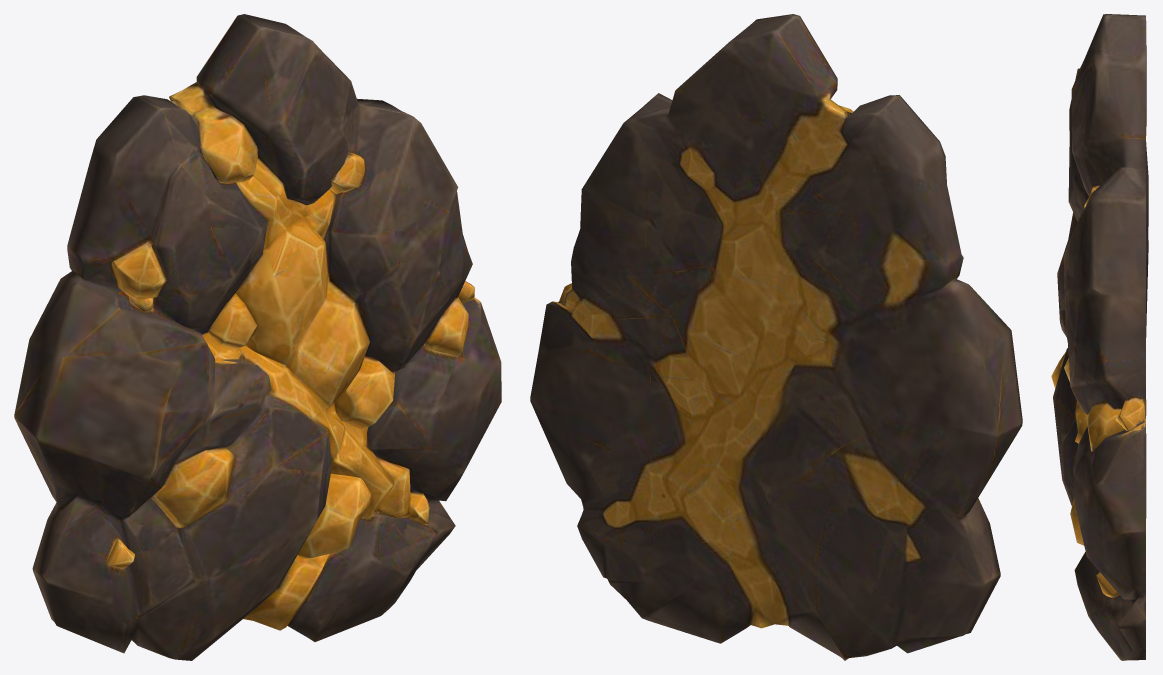
Rendered from filon_or.glb.
3 views of the same model, side by side, from view 1: azimuth 30°, elevation 25°; view 2: azimuth 150°, elevation 25°; view 3: azimuth 270°, elevation 25° (orthographic). The views are drawn at different scales.
Size of the model in its own units: 0.7471 by 0.9517 by 0.1426.
1 material, 1 textured.
